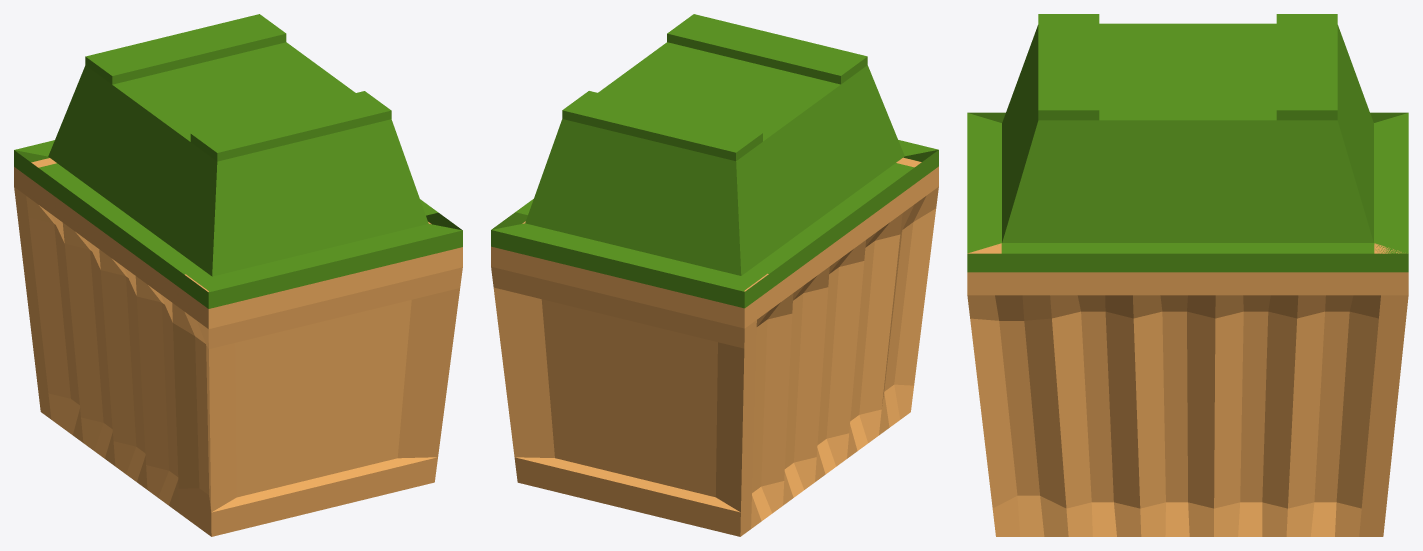
3 renders of one model, left to right at view 1: azimuth 30°, elevation 25°; view 2: azimuth 150°, elevation 25°; view 3: azimuth 270°, elevation 25°, orthographic. The views are drawn at different scales.
Parts seen in each view (by area): view 1: Box02, Box02-cover; view 2: Box02, Box02-cover; view 3: Box02, Box02-cover.
Boxes of the visible parts, x1,y1,x2,y2 form: Box02: (14, 158, 462, 536); Box02-cover: (14, 14, 462, 308); Box02: (491, 157, 938, 536); Box02-cover: (491, 14, 938, 308); Box02: (967, 243, 1408, 536); Box02-cover: (967, 14, 1408, 272).
Bounding box in the file's own units: 28.48 × 38.99 × 37.75.
